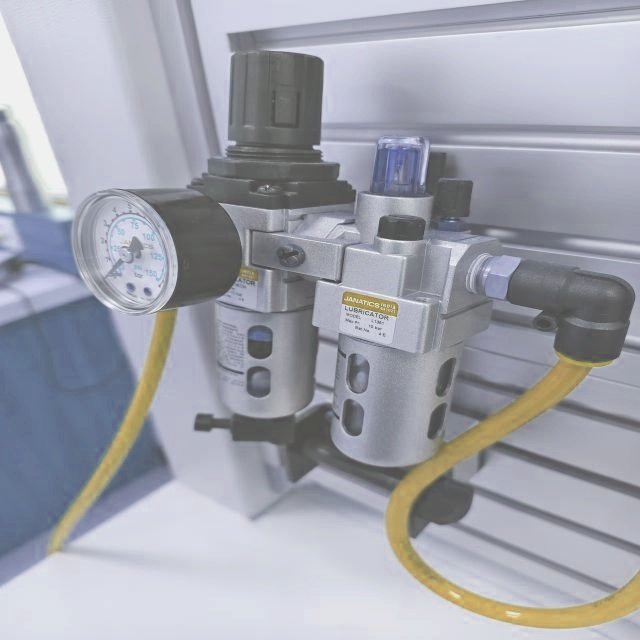FRL unit: (67, 38, 604, 549)
